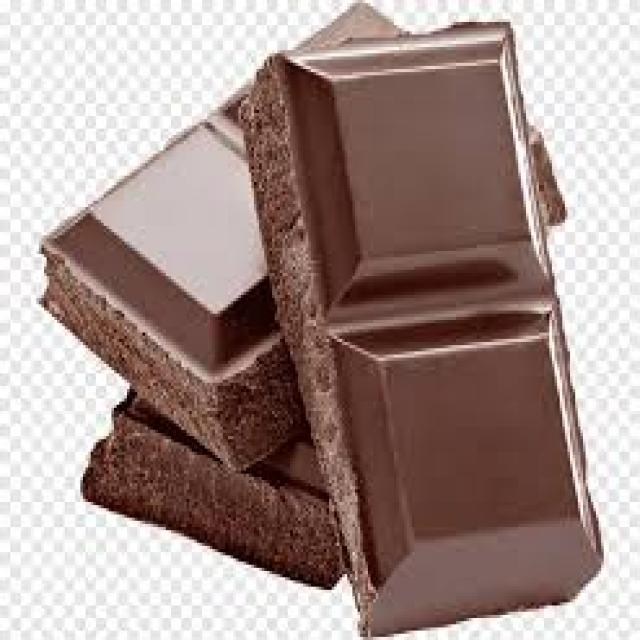Chocolate: (39, 3, 602, 637)
